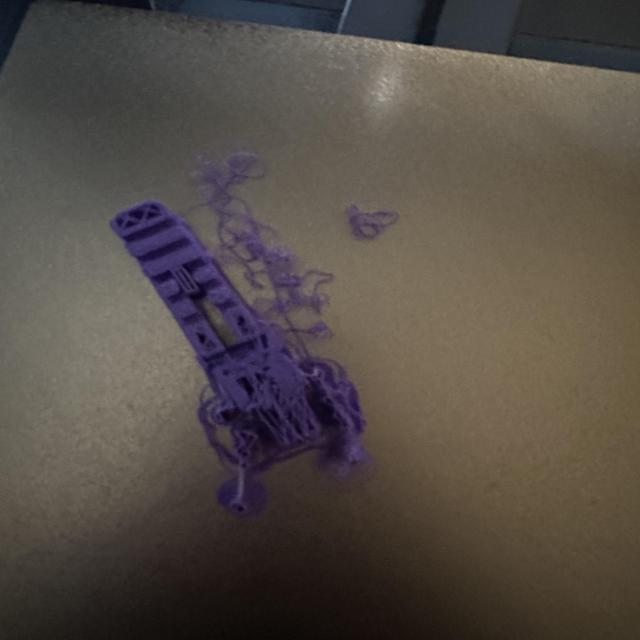Spaghetti: (184, 150, 401, 480)
